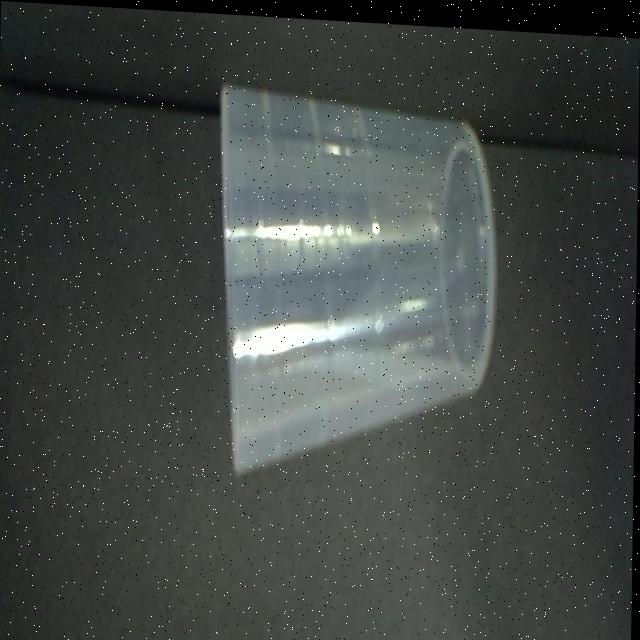cup: (222, 83, 495, 468)
